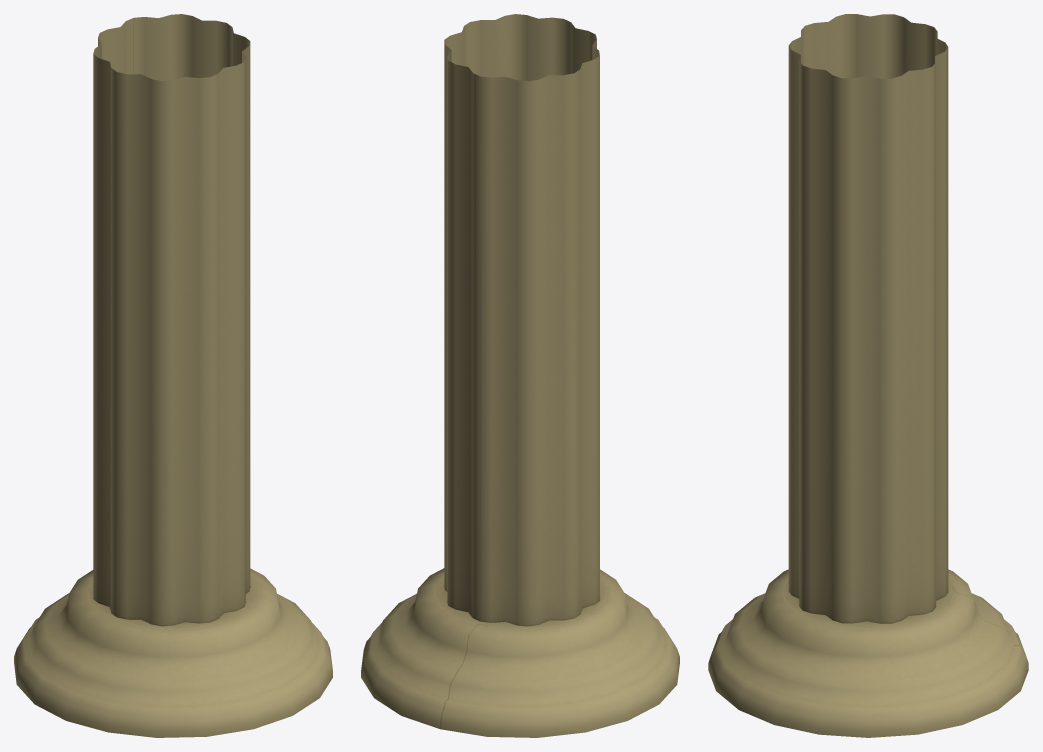
The model's file is Piller.fbx.
3 views of the same model, side by side, from view 1: azimuth 30°, elevation 25°; view 2: azimuth 150°, elevation 25°; view 3: azimuth 270°, elevation 25° (orthographic).
Visible parts, largest first — view 1: Piller; view 2: Piller; view 3: Piller.
Boxes of the visible parts, x1,y1,x2,y2 form: Piller: (14,14,332,737); Piller: (361,14,679,737); Piller: (708,14,1028,737).
Size of the model in its own units: 2.39 by 5.12 by 2.39.
Materials: 1 (1 with a texture image).
